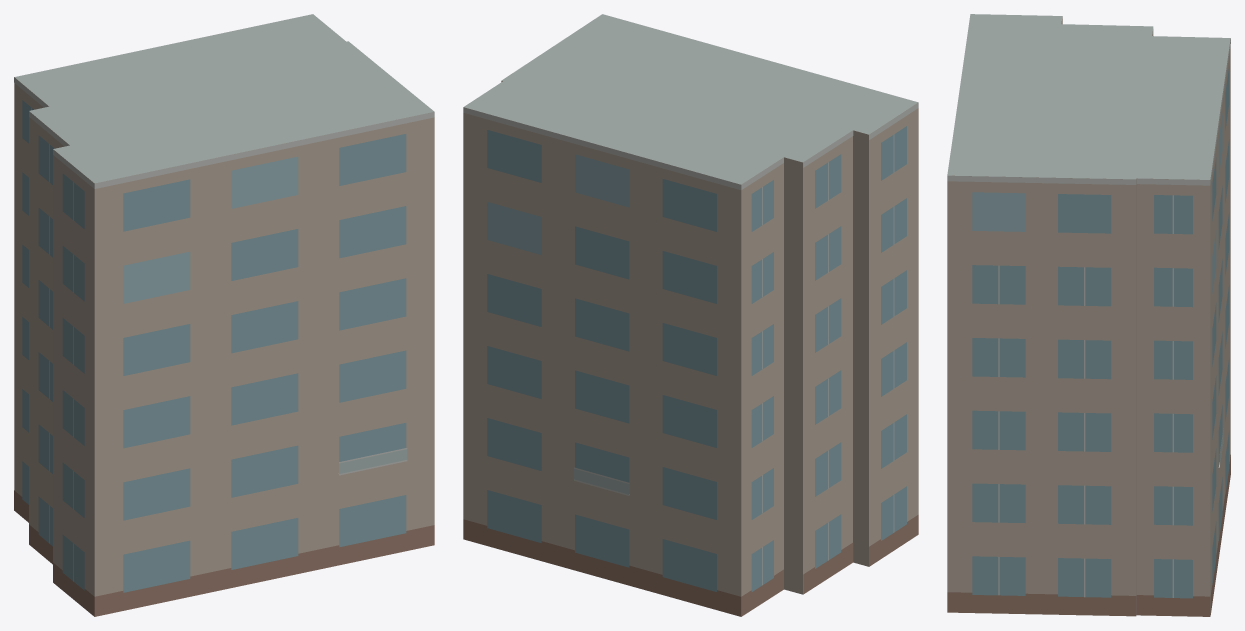
File: survey-upis-32464951.glb
3 renders of one model, left to right at view 1: azimuth 30°, elevation 25°; view 2: azimuth 150°, elevation 25°; view 3: azimuth 270°, elevation 25°, orthographic.
Visible parts, largest first — view 1: survey-upis-32464951.tmp; view 2: survey-upis-32464951.tmp; view 3: survey-upis-32464951.tmp.
Part boxes in pixels (<box>): survey-upis-32464951.tmp: <box>14,14,434,616</box>; survey-upis-32464951.tmp: <box>463,14,918,616</box>; survey-upis-32464951.tmp: <box>947,14,1230,616</box>.
Size of the model in its own units: 15.41 by 18.9 by 11.13.
